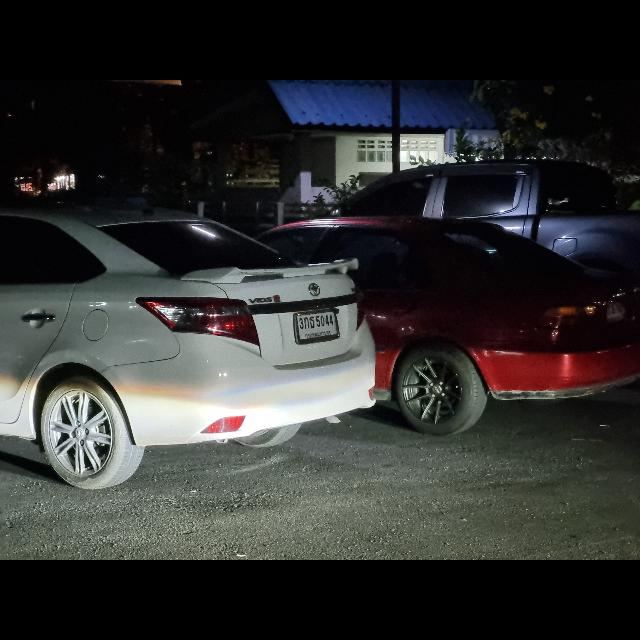licenseplate: (294, 308, 342, 344)
